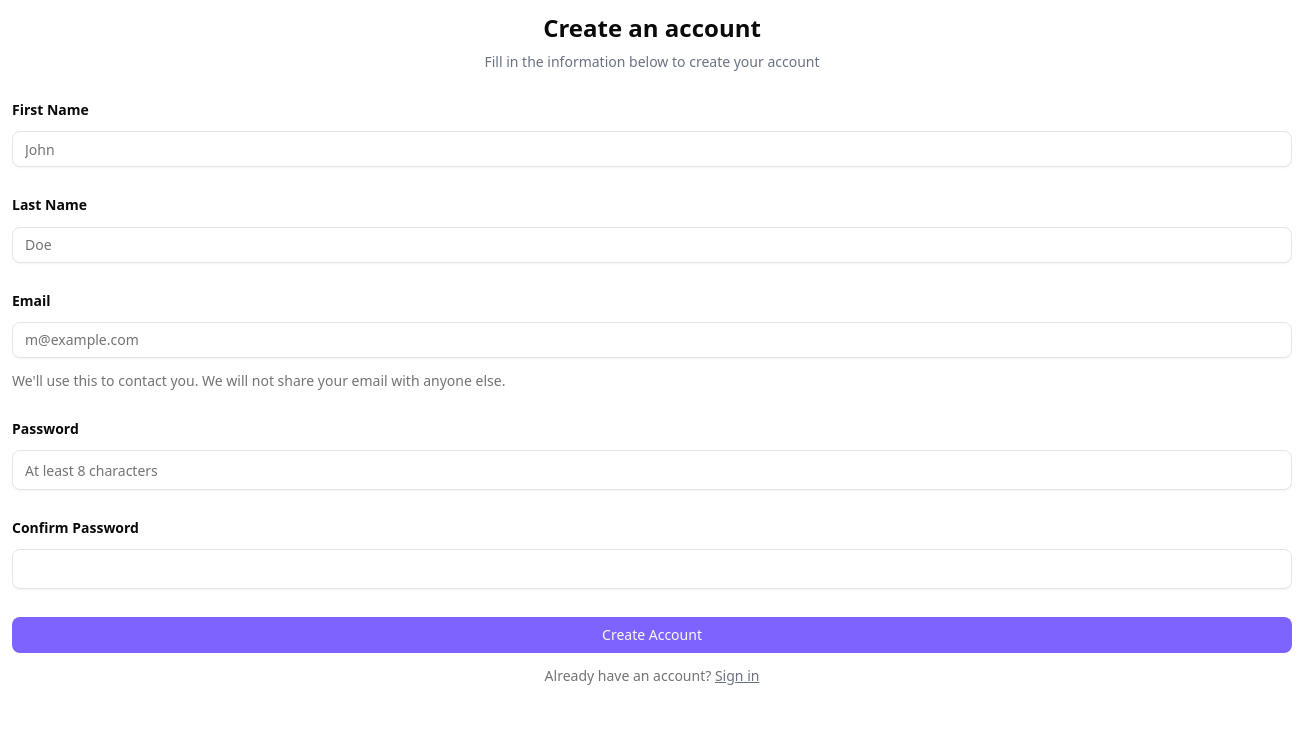
Test case: SignupForm › Form Validation › hides live validation message when password reaches 8 characters
Type "short" into the password field labelled "Password" at [652, 470], box [12,450,1292,490]
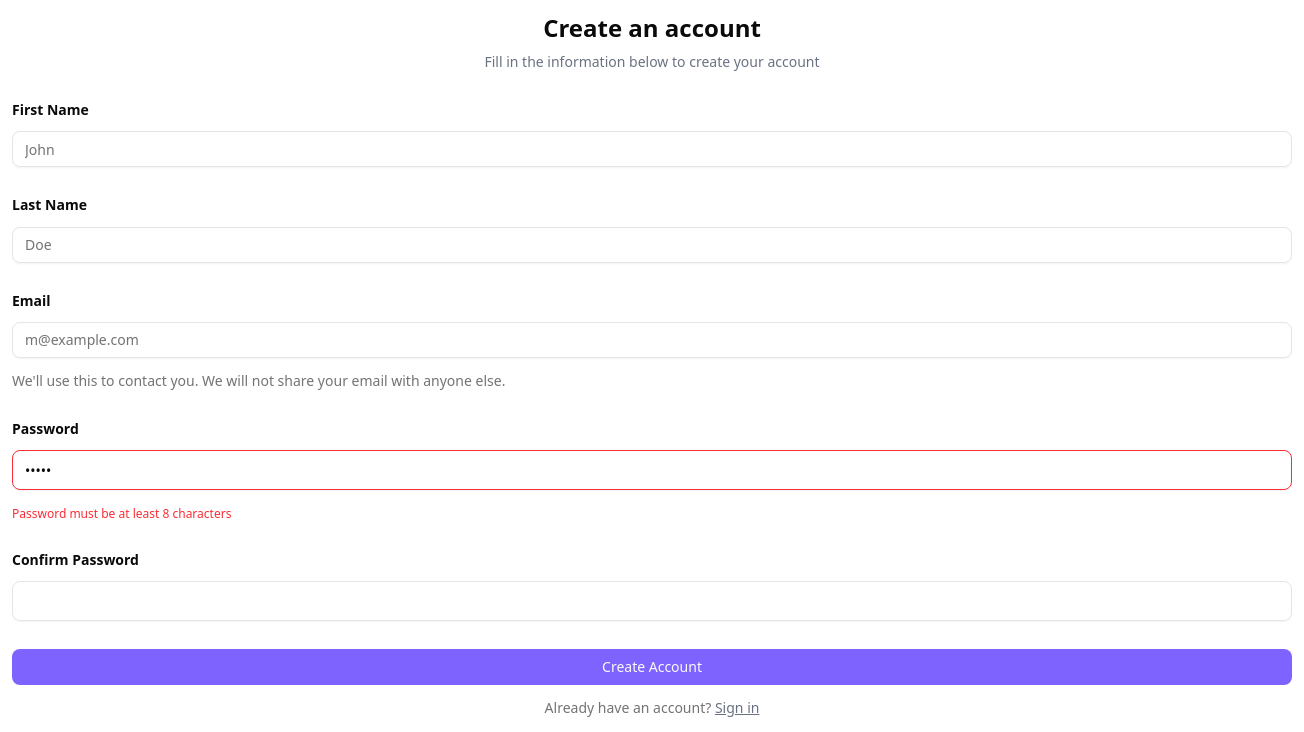
Now the text "Password must be at least 8 characters" is shown, box [12,505,231,522]
Type "longenough" into the password field labelled "Password" at [652, 470], box [12,450,1292,490]
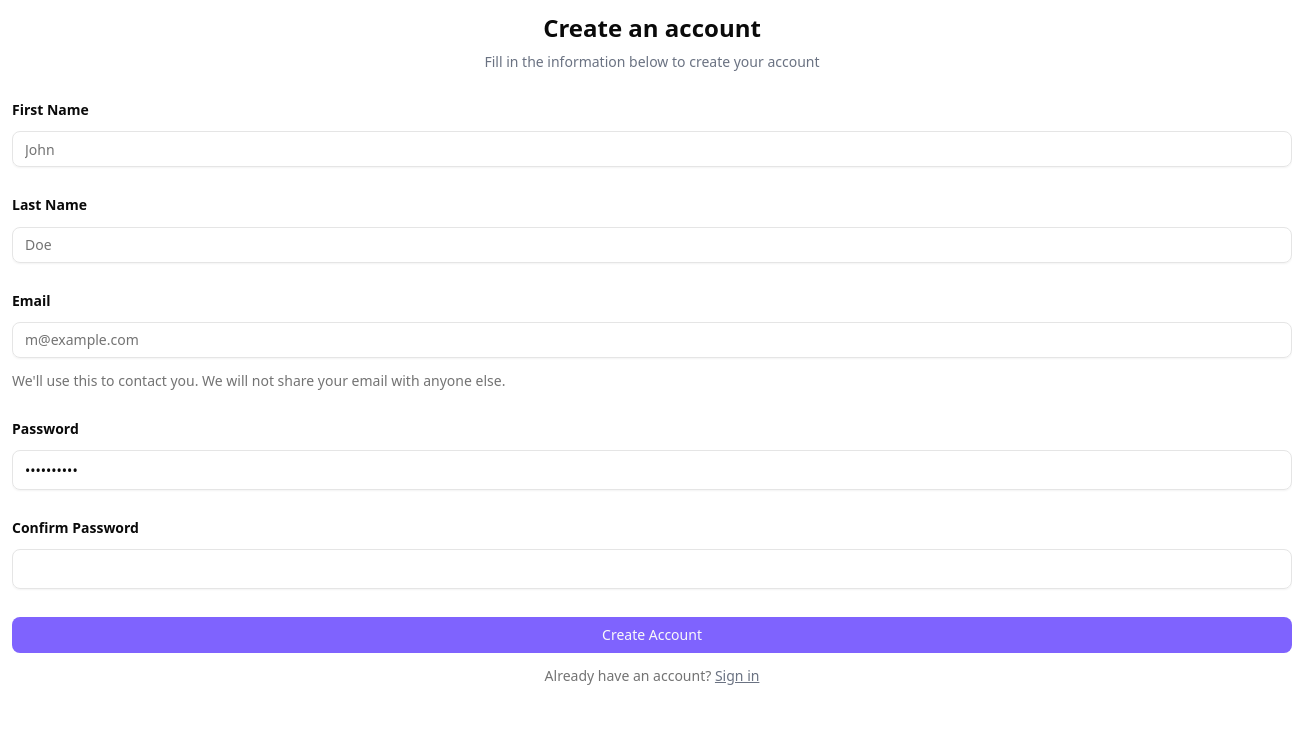
Now the text "Password must be at least 8 characters" is gone
